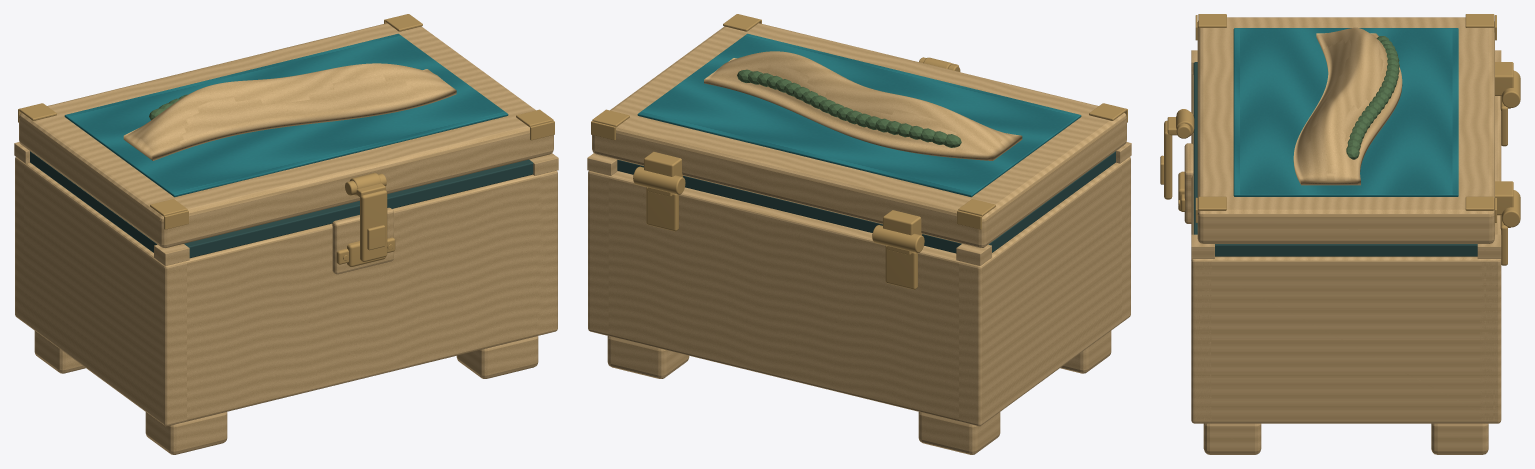
File: lithuania.glb
3 views of the same model, side by side, from view 1: azimuth 30°, elevation 25°; view 2: azimuth 150°, elevation 25°; view 3: azimuth 270°, elevation 25° (orthographic). The views are drawn at different scales.
Parts seen in each view (by area): view 1: Sand body / long, Lid / polished slab, Sand body / end, Lagoon / inset, Dune / continuous ridge, Seam / long, Sand body / end.001, Sand / foot, Sand / foot.002, Latch / lifting hasp, Sand / clasp seat, Seam / end (+3 smaller); view 2: Sand body / long.001, Lid / polished slab, Sand body / end, Lagoon / inset, Dune / continuous ridge, Sand body / end.001, Seam / long.001, Sand / foot.001, Sand / foot.003, Seam / end, Sand body / long, Hinge / fixed mount (+7 smaller); view 3: Sand body / end.001, Lid / polished slab, Lagoon / inset, Dune / continuous ridge, Seam / end.001, Sand body / long.001, Sand / foot.002, Sand body / long, Sand / foot.003, Seam / long, Sand / clasp seat, Latch / lifting hasp (+10 smaller).
Boxes of the visible parts, x1=… form: Sand body / long: x1=155, y1=171, x2=555, y2=425; Lid / polished slab: x1=19, y1=23, x2=553, y2=247; Sand body / end: x1=15, y1=158, x2=186, y2=426; Lagoon / inset: x1=64, y1=33, x2=508, y2=197; Dune / continuous ridge: x1=123, y1=63, x2=456, y2=160; Seam / long: x1=184, y1=159, x2=533, y2=258; Sand body / end.001: x1=537, y1=170, x2=557, y2=335; Sand / foot: x1=145, y1=412, x2=227, y2=454; Sand / foot.002: x1=456, y1=336, x2=538, y2=378; Latch / lifting hasp: x1=360, y1=190, x2=387, y2=261; Sand / clasp seat: x1=332, y1=207, x2=393, y2=274; Seam / end: x1=30, y1=151, x2=157, y2=252; Sand body / long.001: x1=608, y1=171, x2=990, y2=426; Lid / polished slab: x1=592, y1=23, x2=1126, y2=247; Sand body / end: x1=959, y1=160, x2=1129, y2=426; Lagoon / inset: x1=637, y1=33, x2=1081, y2=197; Dune / continuous ridge: x1=704, y1=51, x2=1022, y2=160; Sand body / end.001: x1=588, y1=170, x2=608, y2=335; Seam / long.001: x1=617, y1=160, x2=961, y2=253; Sand / foot.001: x1=918, y1=412, x2=1000, y2=454; Sand / foot.003: x1=607, y1=336, x2=689, y2=378; Seam / end: x1=988, y1=151, x2=1115, y2=252; Sand body / long: x1=1121, y1=157, x2=1130, y2=322; Hinge / fixed mount: x1=885, y1=245, x2=917, y2=289; Sand body / end.001: x1=1191, y1=256, x2=1501, y2=423; Lid / polished slab: x1=1197, y1=17, x2=1494, y2=243; Lagoon / inset: x1=1233, y1=28, x2=1458, y2=196; Dune / continuous ridge: x1=1293, y1=27, x2=1402, y2=185; Seam / end.001: x1=1215, y1=244, x2=1477, y2=256; Sand body / long.001: x1=1480, y1=96, x2=1501, y2=423; Sand / foot.002: x1=1203, y1=423, x2=1261, y2=454; Sand body / long: x1=1191, y1=74, x2=1211, y2=423; Sand / foot.003: x1=1431, y1=423, x2=1488, y2=454; Seam / long: x1=1193, y1=62, x2=1197, y2=234; Sand / clasp seat: x1=1184, y1=143, x2=1193, y2=223; Latch / lifting hasp: x1=1164, y1=120, x2=1172, y2=199.
Size of the model in its own units: 3.72 by 2.58 by 2.88.
5 materials, 2 textured.
